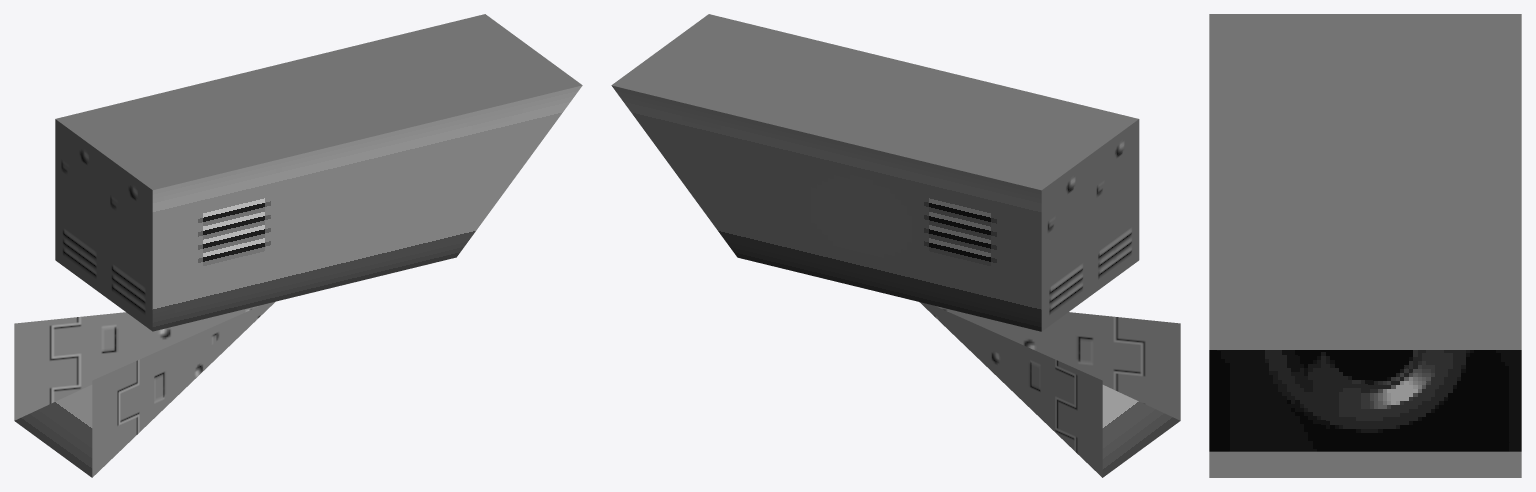
File: primary_108.glb
The picture shows the model from 3 angles, left to right: view 1: azimuth 30°, elevation 25°; view 2: azimuth 150°, elevation 25°; view 3: azimuth 270°, elevation 25°; orthographic projection. The views are drawn at different scales.
Visible parts, largest first — view 1: Object; view 2: Object; view 3: Object.
Boxes of the visible parts, <box> form: Object: <box>14,14,582,477</box>; Object: <box>611,14,1180,477</box>; Object: <box>1209,14,1521,477</box>.
Size of the model in its own units: 0.7894 by 0.4426 by 0.2771.
Materials: 9 (9 with a texture image).
